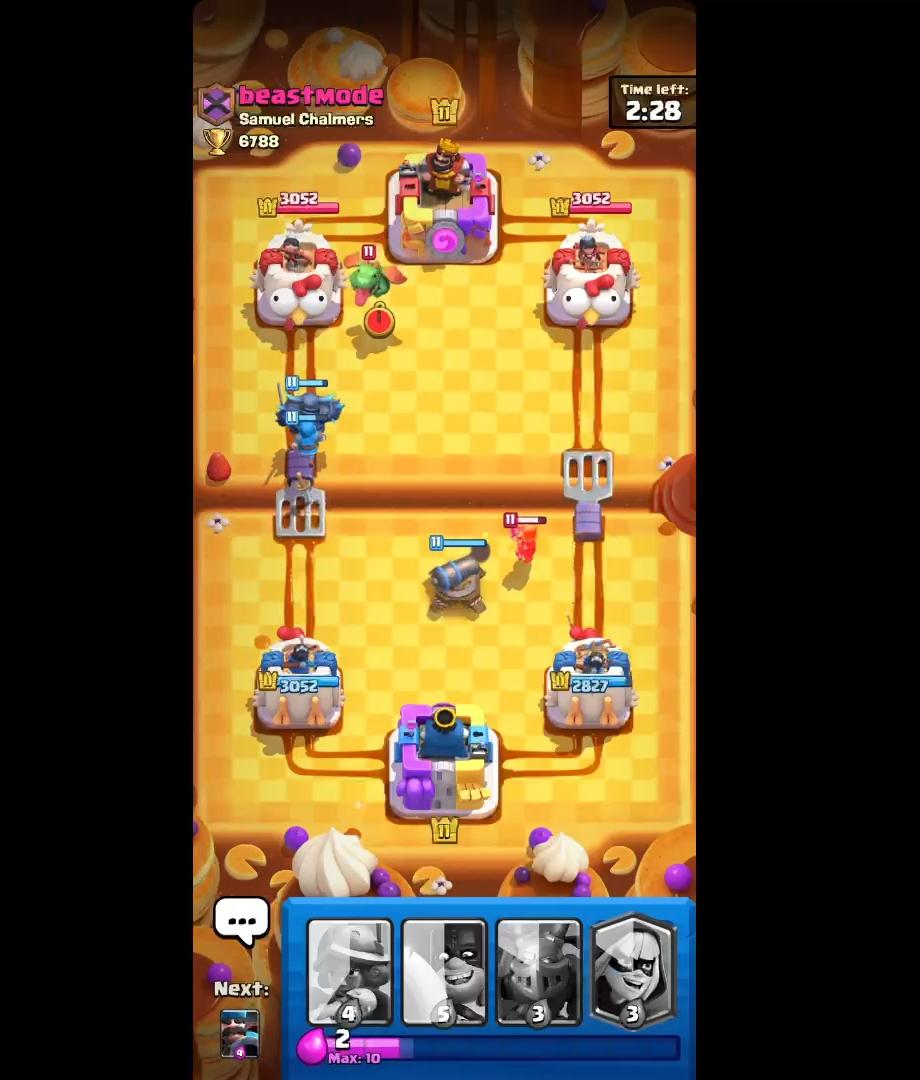Baby Dragon: (337, 248, 403, 306)
Valkyrie: (499, 502, 551, 569)
